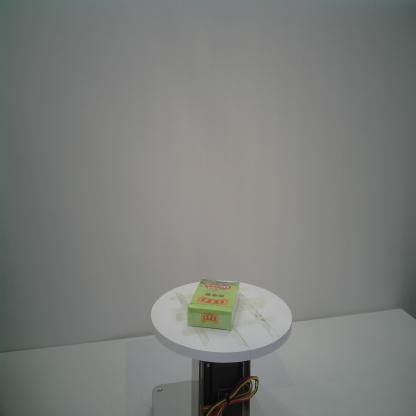Candy: (187, 278, 240, 331)
